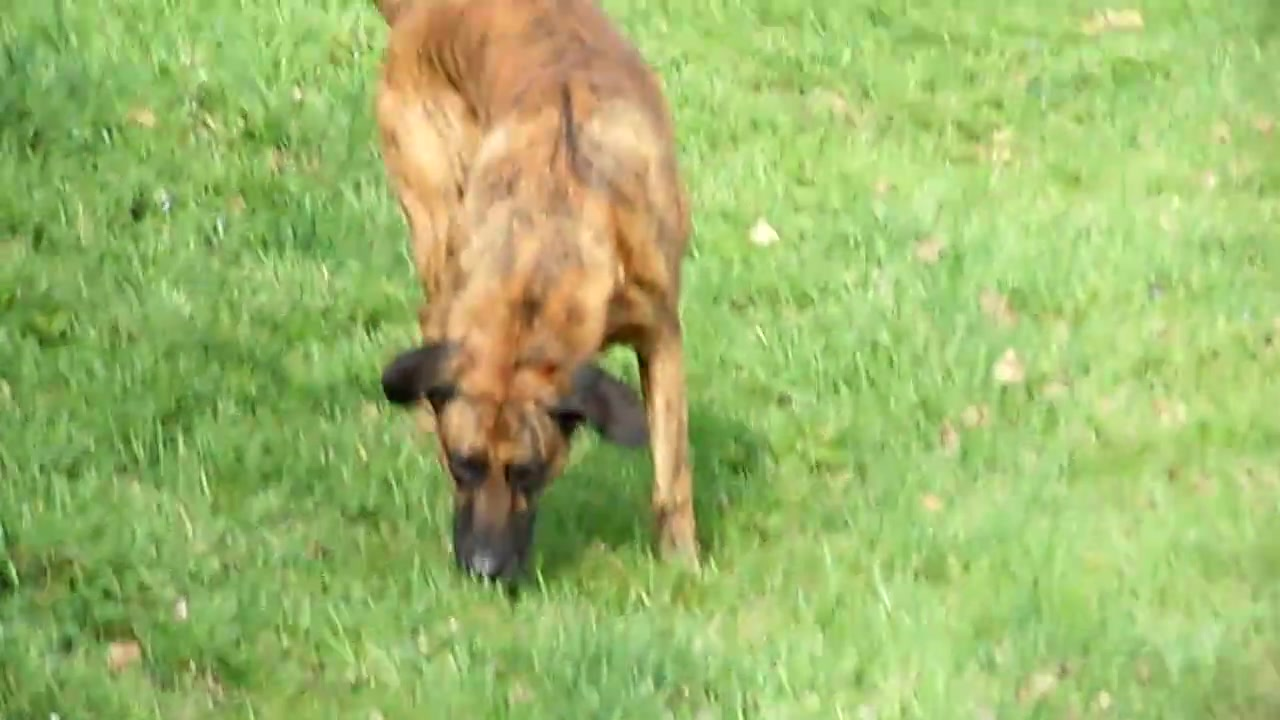dog: (359, 1, 707, 595)
